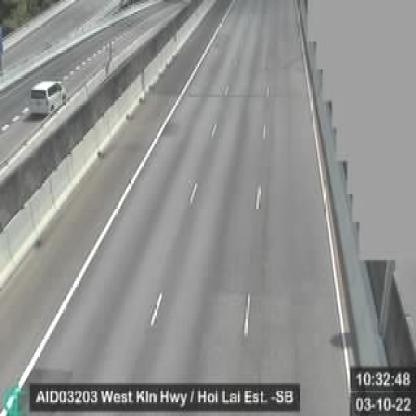Car: (30, 76, 64, 118)
